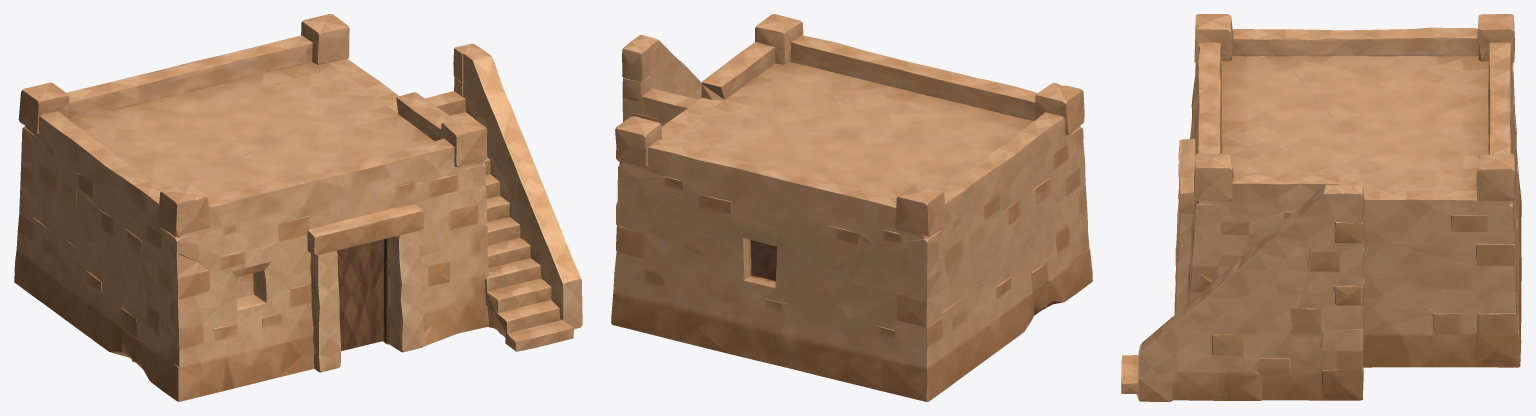
File: egypt-hebrew-house.glb
The picture shows the model from 3 angles, left to right: view 1: azimuth 30°, elevation 25°; view 2: azimuth 150°, elevation 25°; view 3: azimuth 270°, elevation 25°; orthographic projection. The views are drawn at different scales.
Bounding box in the file's own units: 1.9 × 0.9776 × 1.68.
1 material, 1 textured.
